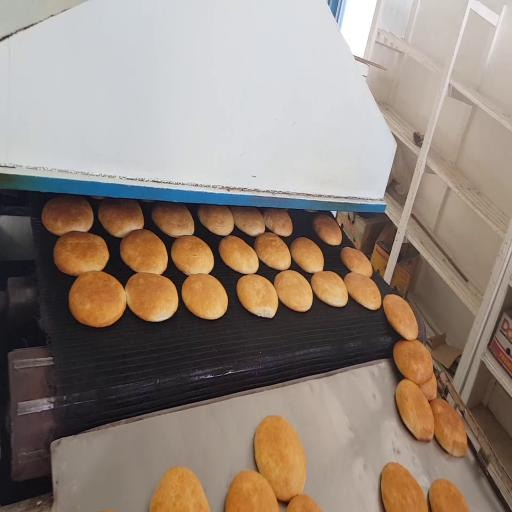bread: (254, 416, 306, 502), (69, 271, 126, 327), (150, 467, 210, 511), (126, 274, 178, 321), (54, 232, 109, 275), (396, 379, 434, 440), (381, 463, 427, 511), (226, 470, 279, 511), (430, 399, 467, 457), (120, 229, 167, 274), (42, 196, 93, 236), (182, 274, 227, 319), (237, 275, 278, 318), (394, 340, 433, 385), (98, 199, 144, 237), (171, 236, 214, 275), (383, 294, 418, 340), (274, 270, 312, 311), (219, 236, 258, 274), (152, 203, 194, 237), (344, 273, 381, 310), (255, 232, 291, 270), (311, 271, 348, 307), (429, 480, 469, 511), (197, 205, 234, 236), (291, 238, 323, 273), (231, 207, 265, 236), (341, 247, 372, 277), (313, 214, 341, 245), (263, 209, 292, 237), (287, 495, 321, 511), (420, 374, 437, 401), (91, 196, 104, 200), (140, 200, 154, 202)
